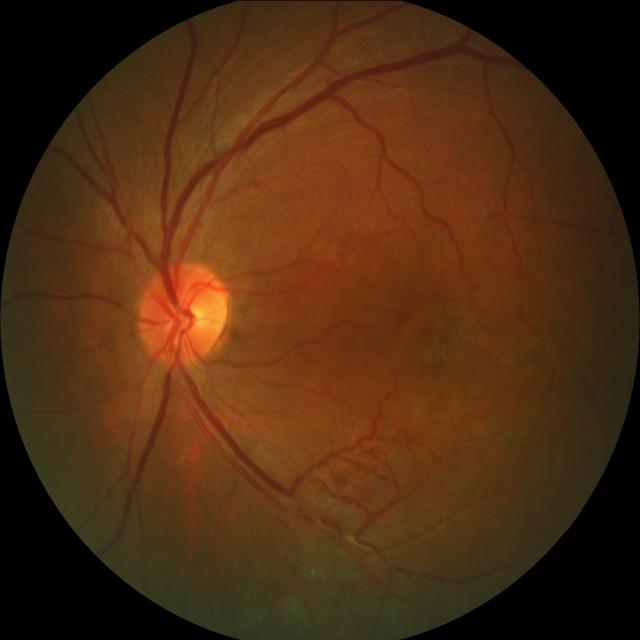OC: (170, 298, 208, 336)
OD: (134, 260, 228, 366)
